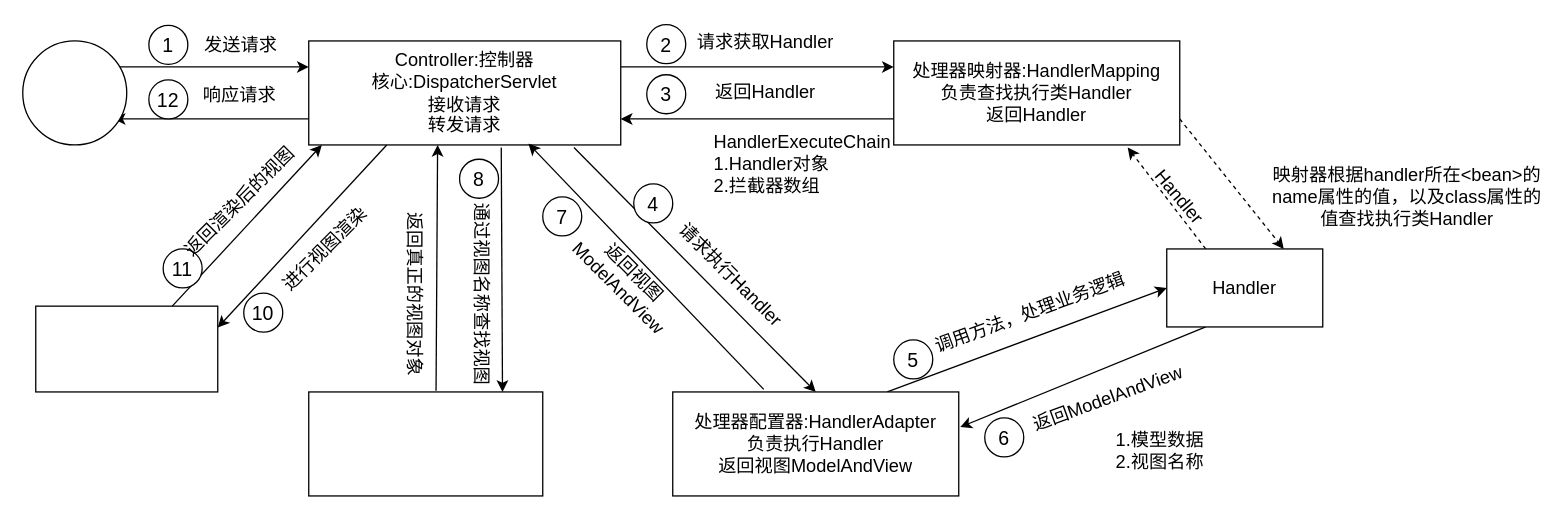
Some shapes in this 1567 by 519 pixel diagram are drawn without their labels. The shapes that lost their labels are listed below. From the top down, each one's box as (x1, y1, x2, y2) in pixels, then its label:
(21, 40, 127, 145): 用户
(34, 305, 218, 392): 视图:View 渲染视图 返回视图
(307, 391, 543, 496): 视图解析器:ViewResolver 解析物理视图 返回逻辑视图
